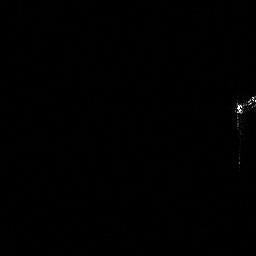ship: (229, 92, 256, 117)
